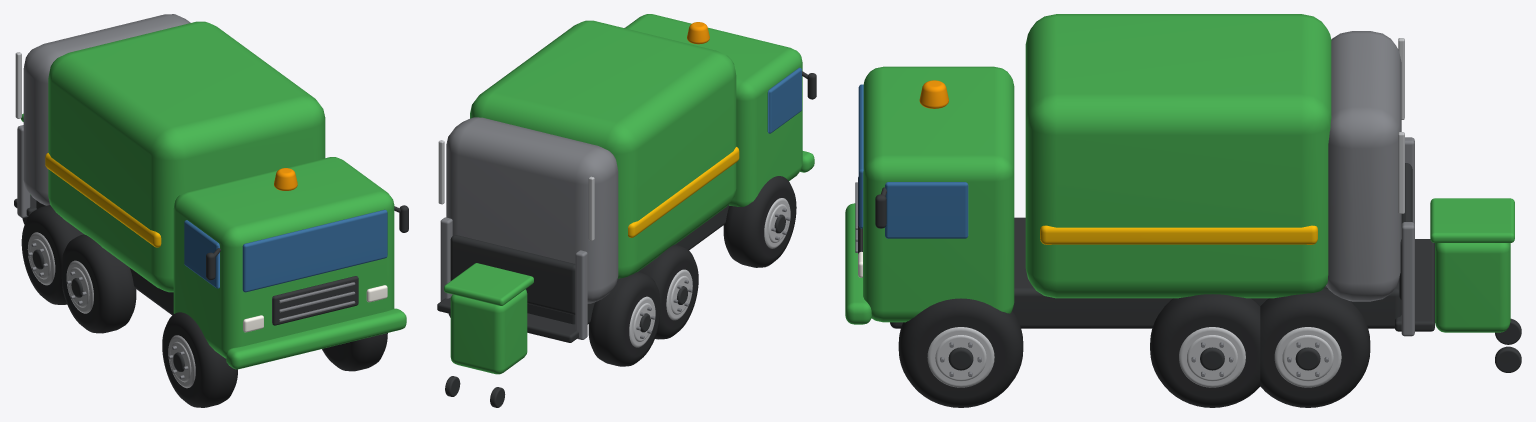
Rendered from GarbageTruck.glb.
The picture shows the model from 3 angles, left to right: view 1: azimuth 30°, elevation 25°; view 2: azimuth 150°, elevation 25°; view 3: azimuth 270°, elevation 25°; orthographic projection. The views are drawn at different scales.
Visible parts, largest first — view 1: GarbageTruck_GarbageTruck_Root_Green, GarbageTruck_GarbageTruck_Root_Glass, GarbageTruck_GarbageTruck_Root_SteelGrey, Gar_WheelR1_Tire, Gar_WheelR0_Tire, GarbageTruck_GarbageTruck_Root_DarkGrey, Gar_WheelR2_Tire, Gar_BodyStripe, Gar_WheelL0_Tire, GarbageTruck_Wheel_WheelR0_LightGrey, GarbageTruck_Wheel_WheelR1_LightGrey, GarbageTruck_Wheel_WheelR2_LightGrey (+3 smaller); view 2: GarbageTruck_GarbageTruck_Root_Green, GarbageTruck_GarbageTruck_Root_SteelGrey, GarbageTruck_Bin_Green, GarbageTruck_GarbageTruck_Root_DarkGrey, Gar_WheelR2_Tire, Gar_WheelR0_Tire, Gar_WheelR1_Tire, GarbageTruck_GarbageTruck_Root_Glass, Gar_BodyStripe, GarbageTruck_GarbageTruck_Root_LightGrey, GarbageTruck_Wheel_WheelR1_LightGrey, GarbageTruck_Wheel_WheelR2_LightGrey (+3 smaller); view 3: GarbageTruck_GarbageTruck_Root_Green, GarbageTruck_GarbageTruck_Root_SteelGrey, GarbageTruck_Bin_Green, GarbageTruck_GarbageTruck_Root_DarkGrey, Gar_WheelL2_Tire, Gar_WheelL1_Tire, Gar_WheelL0_Tire, GarbageTruck_GarbageTruck_Root_Glass, Gar_BodyStripe, GarbageTruck_Wheel_WheelL0_LightGrey, GarbageTruck_Wheel_WheelL2_LightGrey, GarbageTruck_Wheel_WheelL1_LightGrey (+3 smaller).
Boxes of the visible parts, bbox=[...] form: GarbageTruck_GarbageTruck_Root_Green: bbox=[48, 21, 406, 369]; GarbageTruck_GarbageTruck_Root_Glass: bbox=[184, 209, 387, 292]; GarbageTruck_GarbageTruck_Root_SteelGrey: bbox=[17, 14, 355, 321]; Gar_WheelR1_Tire: bbox=[61, 234, 136, 333]; Gar_WheelR0_Tire: bbox=[162, 312, 237, 407]; GarbageTruck_GarbageTruck_Root_DarkGrey: bbox=[14, 195, 408, 325]; Gar_WheelR2_Tire: bbox=[21, 205, 83, 304]; Gar_BodyStripe: bbox=[45, 153, 161, 247]; Gar_WheelL0_Tire: bbox=[322, 333, 387, 371]; GarbageTruck_Wheel_WheelR0_LightGrey: bbox=[168, 335, 195, 388]; GarbageTruck_Wheel_WheelR1_LightGrey: bbox=[66, 260, 93, 313]; GarbageTruck_Wheel_WheelR2_LightGrey: bbox=[27, 232, 55, 285]; GarbageTruck_GarbageTruck_Root_Green: bbox=[470, 14, 814, 278]; GarbageTruck_GarbageTruck_Root_SteelGrey: bbox=[440, 117, 618, 339]; GarbageTruck_Bin_Green: bbox=[444, 263, 533, 374]; GarbageTruck_GarbageTruck_Root_DarkGrey: bbox=[437, 71, 816, 342]; Gar_WheelR2_Tire: bbox=[588, 271, 660, 366]; Gar_WheelR0_Tire: bbox=[723, 176, 796, 267]; Gar_WheelR1_Tire: bbox=[639, 244, 698, 339]; GarbageTruck_GarbageTruck_Root_Glass: bbox=[767, 67, 801, 133]; Gar_BodyStripe: bbox=[628, 147, 739, 237]; GarbageTruck_GarbageTruck_Root_LightGrey: bbox=[438, 140, 594, 240]; GarbageTruck_Wheel_WheelR1_LightGrey: bbox=[666, 269, 692, 320]; GarbageTruck_Wheel_WheelR2_LightGrey: bbox=[629, 296, 655, 347]; GarbageTruck_GarbageTruck_Root_Green: bbox=[845, 14, 1331, 324]; GarbageTruck_GarbageTruck_Root_SteelGrey: bbox=[855, 31, 1414, 336]; GarbageTruck_Bin_Green: bbox=[1430, 198, 1514, 332]; GarbageTruck_GarbageTruck_Root_DarkGrey: bbox=[858, 163, 1434, 331]; Gar_WheelL2_Tire: bbox=[1260, 287, 1370, 407]; Gar_WheelL1_Tire: bbox=[1150, 294, 1260, 407]; Gar_WheelL0_Tire: bbox=[898, 298, 1023, 407]; GarbageTruck_GarbageTruck_Root_Glass: bbox=[858, 84, 968, 238]; Gar_BodyStripe: bbox=[1040, 225, 1317, 244]; GarbageTruck_Wheel_WheelL0_LightGrey: bbox=[927, 327, 994, 387]; GarbageTruck_Wheel_WheelL2_LightGrey: bbox=[1274, 327, 1341, 387]; GarbageTruck_Wheel_WheelL1_LightGrey: bbox=[1179, 327, 1245, 387].
Bounding box in the file's own units: 1.29 × 1.5 × 3.04.
Materials: 8 (8 with a texture image).
